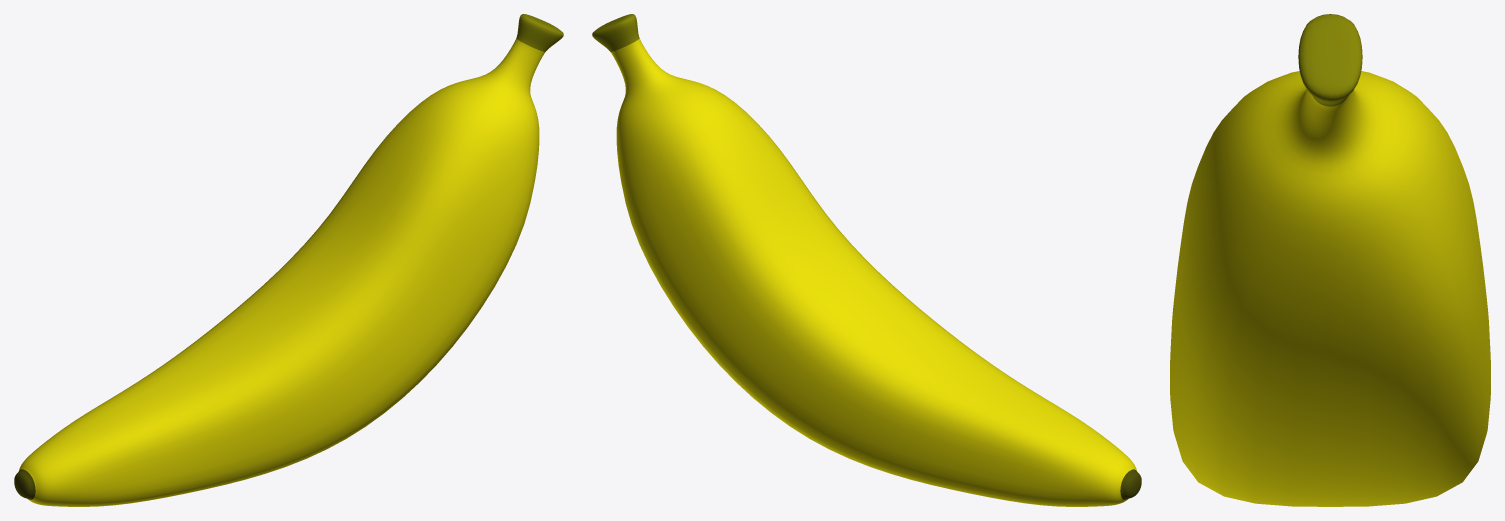
The model's file is muz.fbx.
The picture shows the model from 3 angles, left to right: view 1: azimuth 30°, elevation 25°; view 2: azimuth 150°, elevation 25°; view 3: azimuth 270°, elevation 25°; orthographic projection. The views are drawn at different scales.
Visible parts, largest first — view 1: Cube; view 2: Cube; view 3: Cube.
Part boxes in pixels (<box>): Cube: <box>14,14,563,506</box>; Cube: <box>592,14,1141,506</box>; Cube: <box>1170,14,1490,506</box>.
Bounding box in the file's own units: 886 × 590 × 236.
